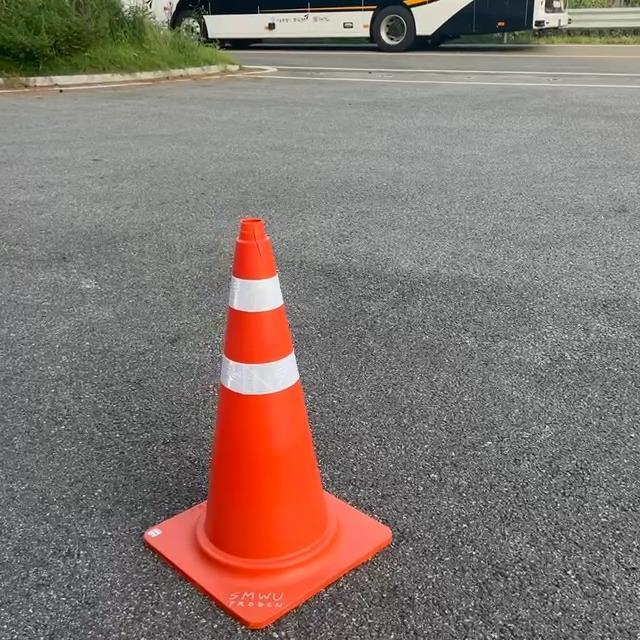fallen_object: (135, 179, 416, 640)
